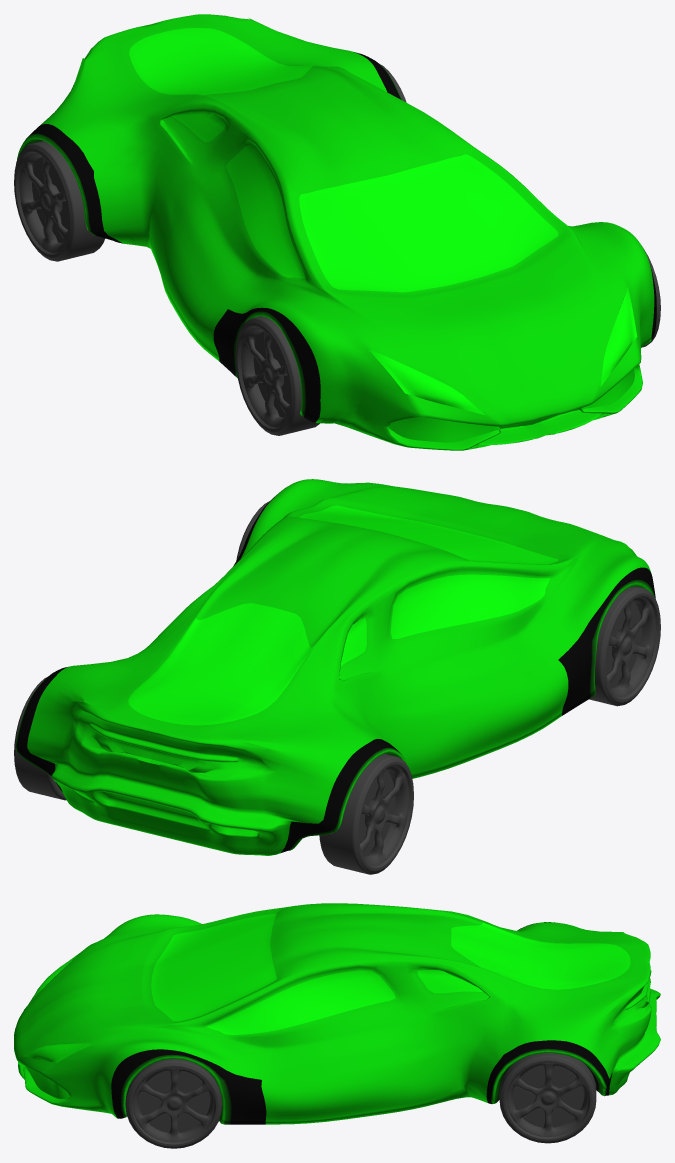
The model's file is Car_BaseMesh.fbx.
The picture shows the model from 3 angles, top to bottom: view 1: azimuth 30°, elevation 25°; view 2: azimuth 150°, elevation 25°; view 3: azimuth 270°, elevation 25°; orthographic projection. The views are drawn at different scales.
Parts seen in each view (by area): view 1: Case, wheel_frontL_Cylinder001 (×2), tiretest (×2); view 2: Case, tiretest (×3), wheel_frontL_Cylinder001 (×2); view 3: Case, wheel_frontL_Cylinder001 (×2), tiretest (×2).
Boxes of the visible parts, bbox=[...] form: Case: bbox=[17, 14, 656, 450]; wheel_frontL_Cylinder001 (×2): bbox=[19, 153, 289, 427]; tiretest (×2): bbox=[14, 140, 319, 435]; Case: bbox=[15, 479, 655, 855]; tiretest (×3): bbox=[14, 586, 660, 874]; wheel_frontL_Cylinder001 (×2): bbox=[359, 597, 655, 865]; Case: bbox=[14, 903, 660, 1124]; wheel_frontL_Cylinder001 (×2): bbox=[133, 1063, 588, 1142]; tiretest (×2): bbox=[125, 1053, 596, 1148].
Bounding box in the file's own units: 168 × 82.91 × 319.
